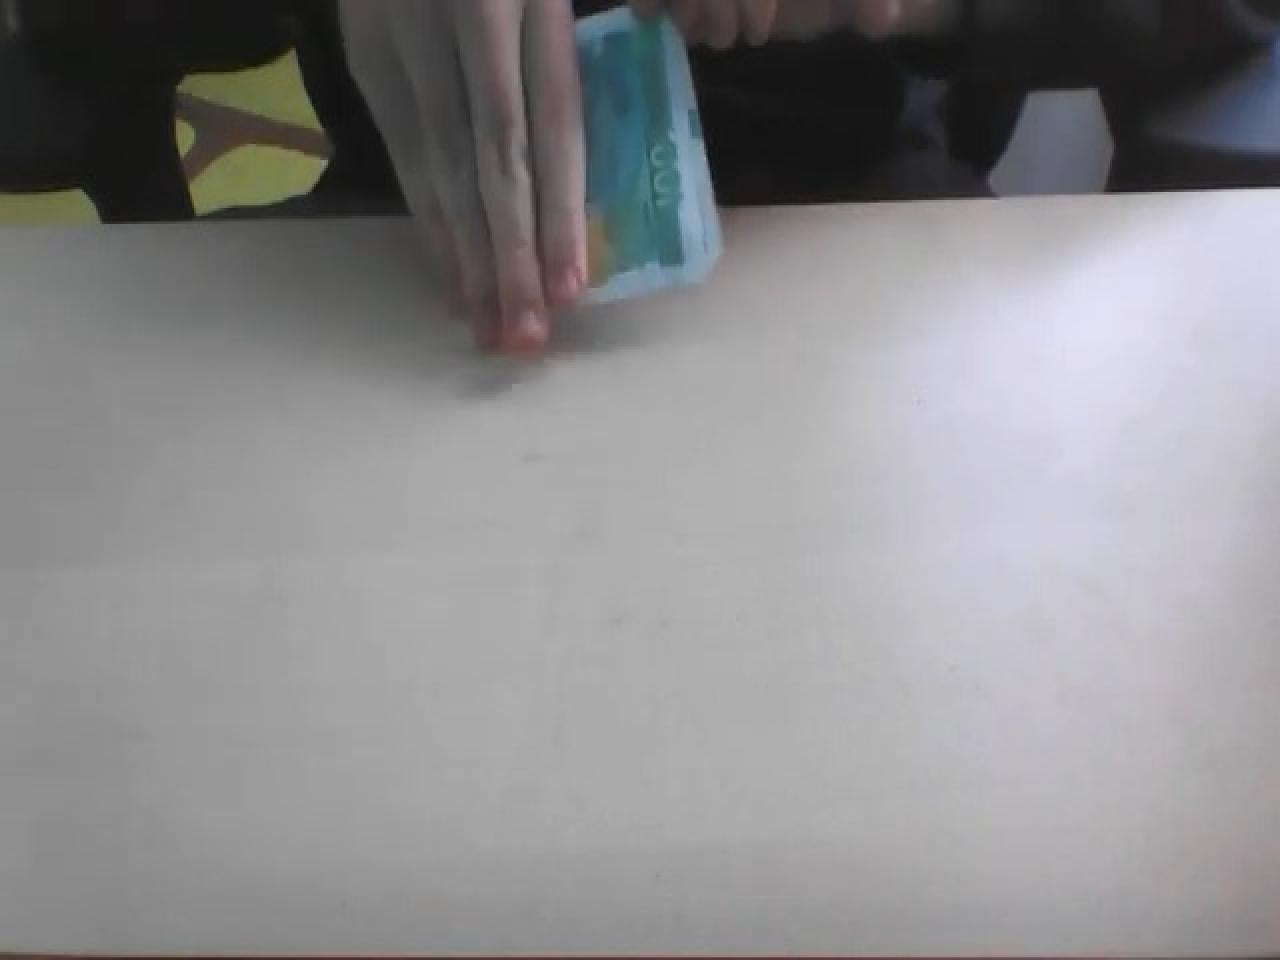100leva: (558, 0, 724, 310)
